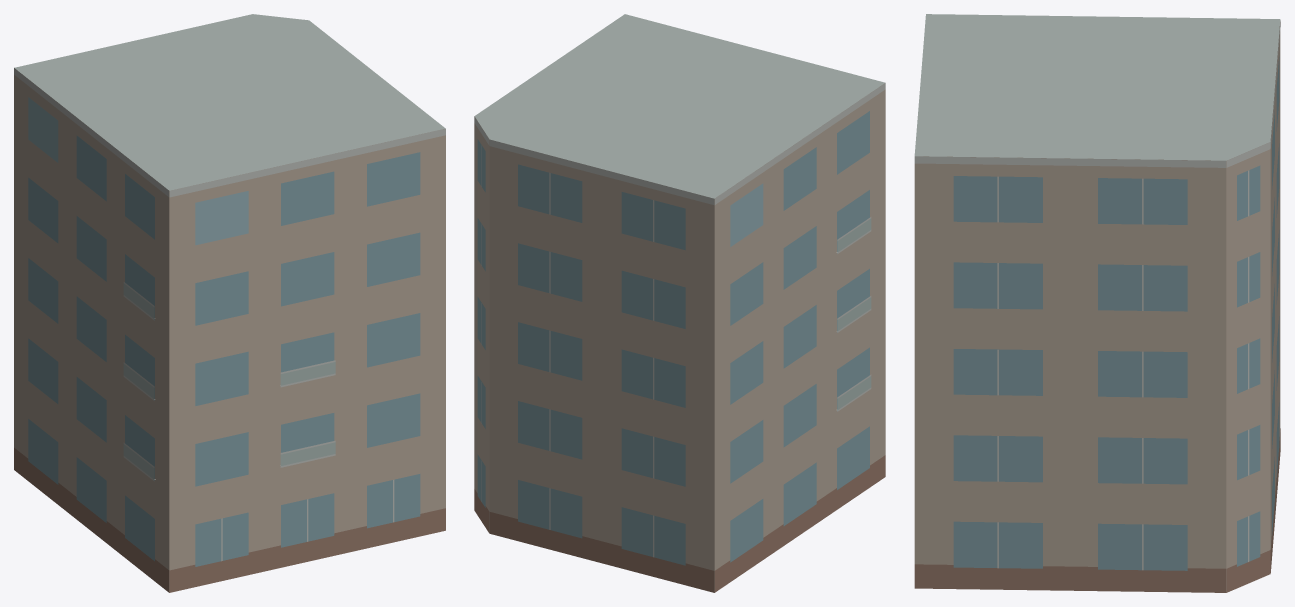
The model's file is survey-upis-32982885.glb.
The picture shows the model from 3 angles, left to right: view 1: azimuth 30°, elevation 25°; view 2: azimuth 150°, elevation 25°; view 3: azimuth 270°, elevation 25°; orthographic projection. The views are drawn at different scales.
Visible parts, largest first — view 1: survey-upis-32982885.tmp; view 2: survey-upis-32982885.tmp; view 3: survey-upis-32982885.tmp.
Part boxes in pixels (<box>): survey-upis-32982885.tmp: <box>14,14,445,592</box>; survey-upis-32982885.tmp: <box>474,14,885,592</box>; survey-upis-32982885.tmp: <box>914,14,1280,592</box>.
Bounding box in the file's own units: 10.56 × 14.5 × 11.13.
